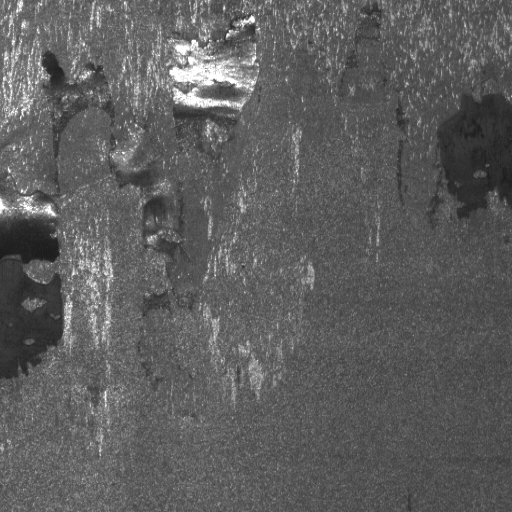qiaopi: (168, 12, 261, 160), (100, 93, 180, 264), (3, 180, 65, 383), (437, 91, 512, 214)
